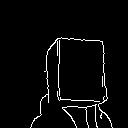cube: (37, 34, 112, 112)
